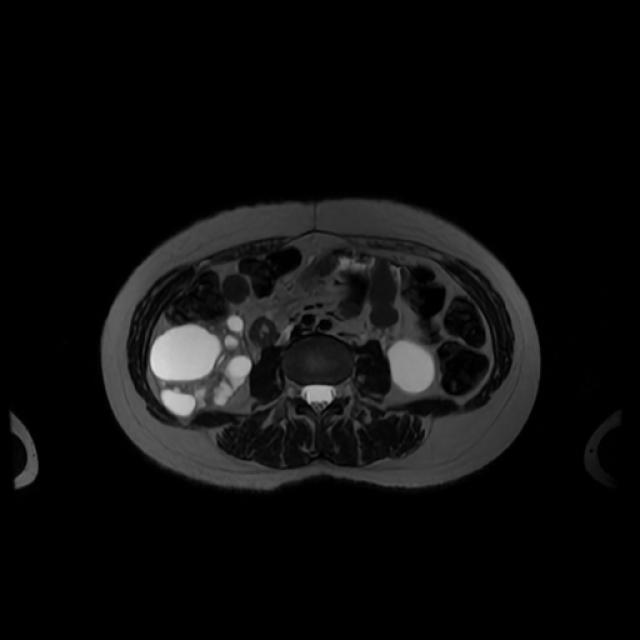sag: (151, 316, 252, 419)
sol: (389, 339, 435, 395)
